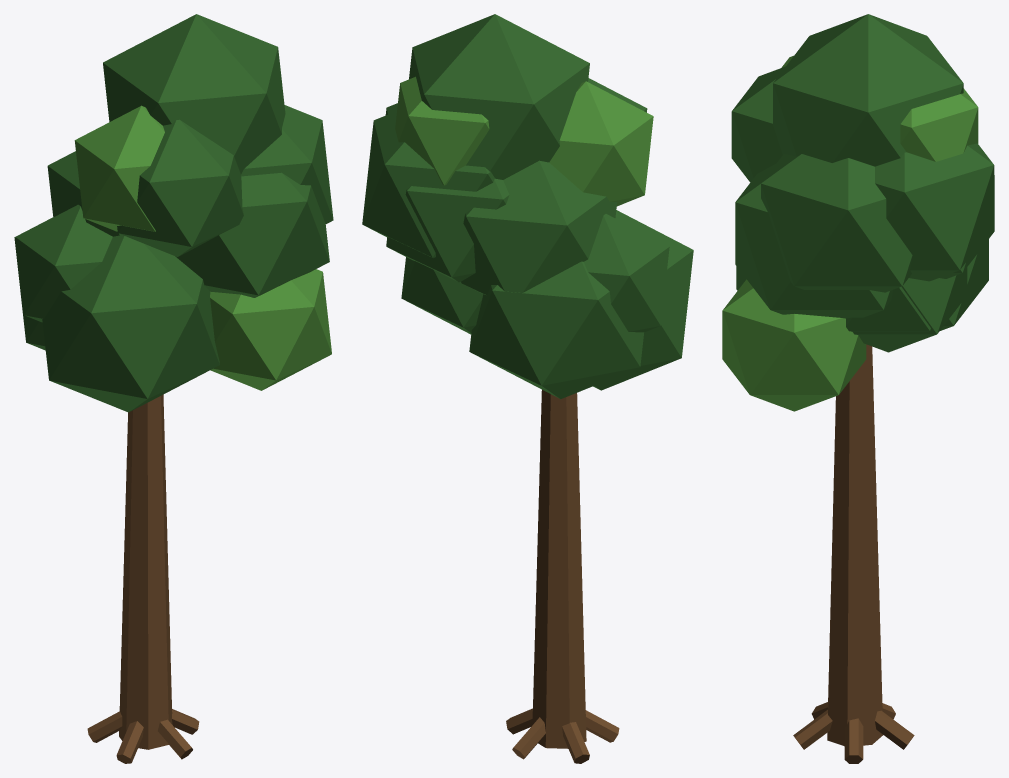
The model's file is arbre_foret_3.glb.
3 renders of one model, left to right at view 1: azimuth 30°, elevation 25°; view 2: azimuth 150°, elevation 25°; view 3: azimuth 270°, elevation 25°, orthographic. The views are drawn at different scales.
Parts seen in each view (by area): view 1: feuillage_feuille_sombre.012, feuillage_feuille.012, tronc.012, racines_ecorce.002; view 2: feuillage_feuille_sombre.012, tronc.012, feuillage_feuille.012, racines_ecorce.002; view 3: feuillage_feuille_sombre.012, tronc.012, feuillage_feuille.012, racines_ecorce.002.
Boxes of the visible parts, x1,y1,x2,y2 form: feuillage_feuille_sombre.012: [14, 14, 333, 412]; feuillage_feuille.012: [74, 105, 331, 390]; tronc.012: [119, 394, 172, 749]; racines_ecorce.002: [87, 709, 199, 763]; feuillage_feuille_sombre.012: [362, 14, 693, 399]; tronc.012: [532, 390, 586, 748]; feuillage_feuille.012: [395, 76, 653, 206]; racines_ecorce.002: [506, 708, 619, 763]; feuillage_feuille_sombre.012: [731, 14, 994, 352]; tronc.012: [827, 344, 882, 746]; feuillage_feuille.012: [722, 55, 978, 411]; racines_ecorce.002: [793, 702, 914, 763].
Size of the model in its own units: 2.26 by 5.39 by 1.76.
